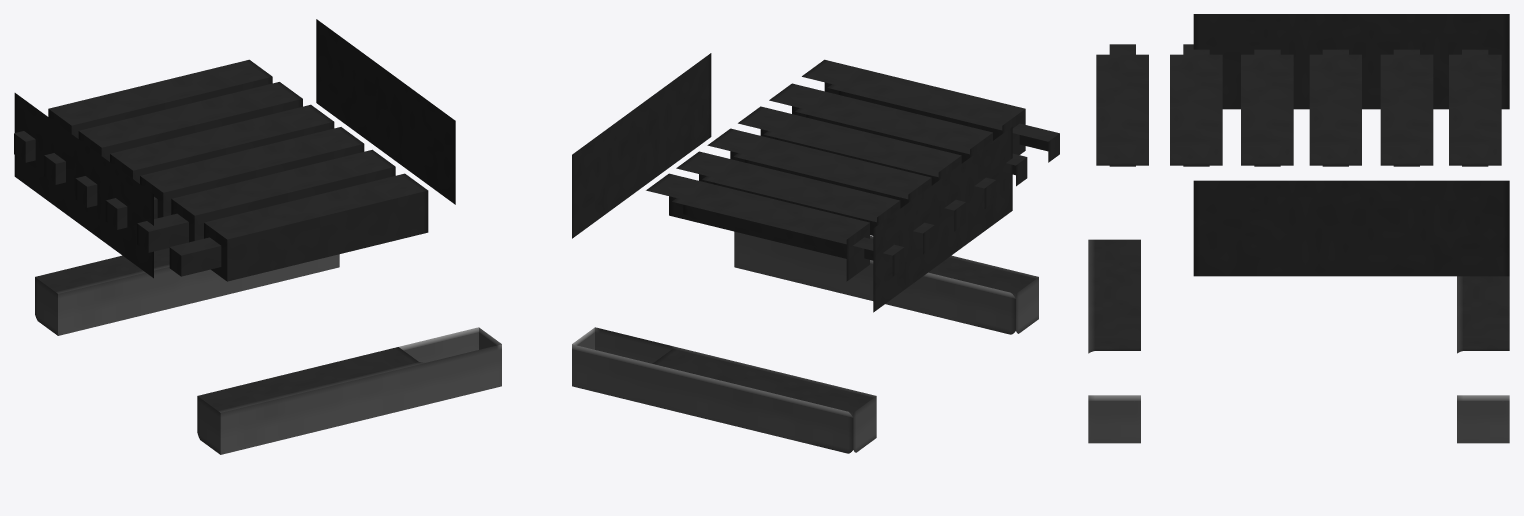
Rendered from conveyor_belt.obj.
3 views of the same model, side by side, from view 1: azimuth 30°, elevation 25°; view 2: azimuth 150°, elevation 25°; view 3: azimuth 270°, elevation 25° (orthographic). The views are drawn at different scales.
Visible parts, largest first — view 1: Shape7, Shape9, Shape6, Shape8, Shape3, Shape15, Shape14, Shape11, Shape12, Shape13, Shape10, Shape16 (+4 smaller); view 2: Shape8, Shape7, Shape6, Shape3, Shape12, Shape9, Shape11, Shape13, Shape15, Shape14, Shape20, Shape10 (+4 smaller); view 3: Shape6, Shape3, Shape7, Shape8, Shape11, Shape9, Shape12, Shape14, Shape15, Shape13.
Boxes of the visible parts, x1,y1,x2,y2 form: Shape7: (197, 327, 501, 454); Shape9: (204, 173, 428, 281); Shape6: (316, 19, 455, 204); Shape8: (35, 248, 339, 335); Shape3: (14, 93, 153, 278); Shape15: (171, 149, 395, 242); Shape14: (140, 127, 364, 217); Shape11: (78, 82, 302, 161); Shape12: (48, 59, 272, 138); Shape13: (110, 104, 334, 183); Shape10: (169, 237, 221, 276); Shape16: (137, 213, 188, 252); Shape8: (572, 327, 876, 453); Shape7: (734, 231, 1038, 334); Shape6: (572, 53, 711, 238); Shape3: (873, 127, 1012, 312); Shape12: (646, 173, 869, 281); Shape9: (802, 59, 1025, 154); Shape11: (676, 151, 900, 235); Shape13: (707, 128, 931, 208); Shape15: (769, 83, 992, 163); Shape14: (738, 106, 961, 180); Shape20: (672, 198, 904, 276); Shape10: (827, 84, 1059, 162); Shape6: (1193, 180, 1509, 276); Shape3: (1193, 14, 1509, 109); Shape7: (1088, 239, 1140, 443); Shape8: (1457, 276, 1509, 443); Shape11: (1380, 54, 1433, 165); Shape9: (1096, 54, 1148, 165); Shape12: (1449, 54, 1501, 165); Shape14: (1241, 54, 1293, 165); Shape15: (1170, 54, 1222, 165); Shape13: (1309, 54, 1361, 165).
Size of the model in its own units: 1.06 by 0.8125 by 1.
